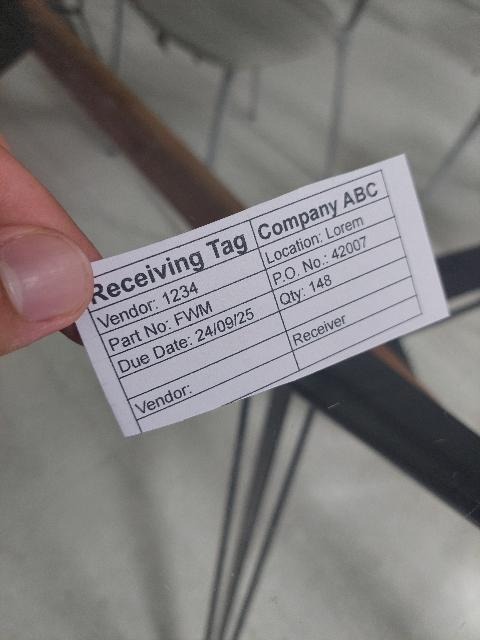PO no: (265, 214, 404, 291)
part no: (99, 269, 274, 356)
qty: (272, 238, 407, 312)
tags: (72, 155, 452, 441)
